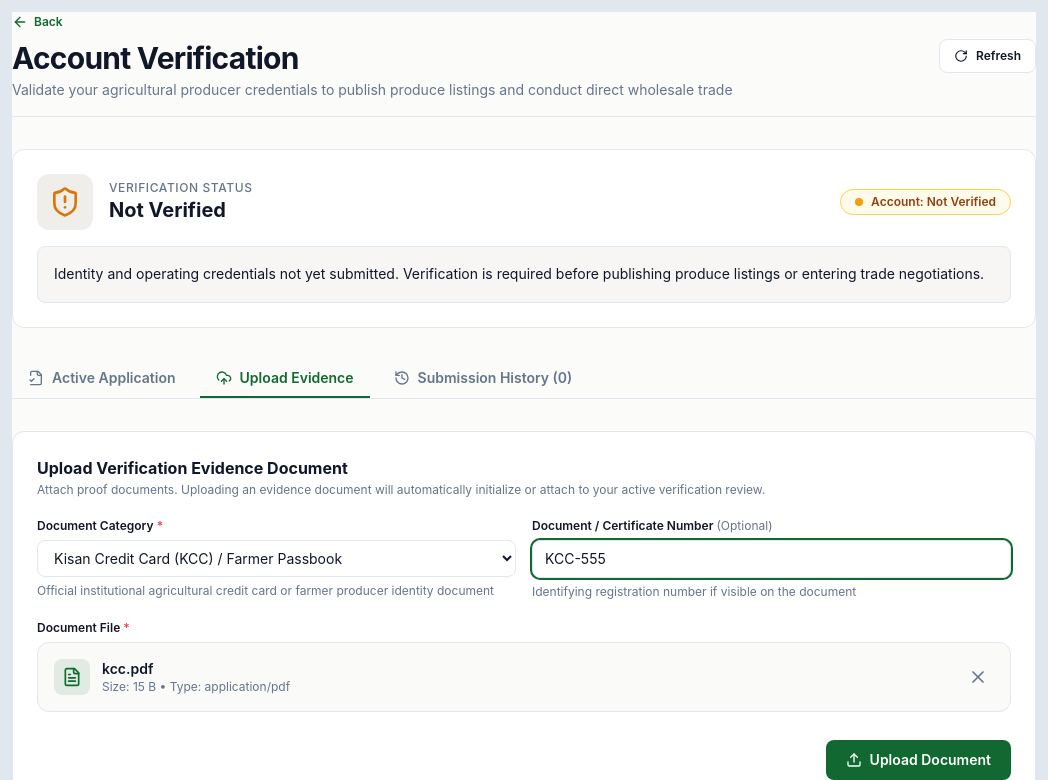
VerificationPage › successfully uploads a document and updates submission view
Earlier steps of the test are not shown.
Expected: the text "kcc.pdf" is shown, [102,660,153,677]
Click the button "Upload Document". click: (918, 760)
box: [826,740,1011,779]
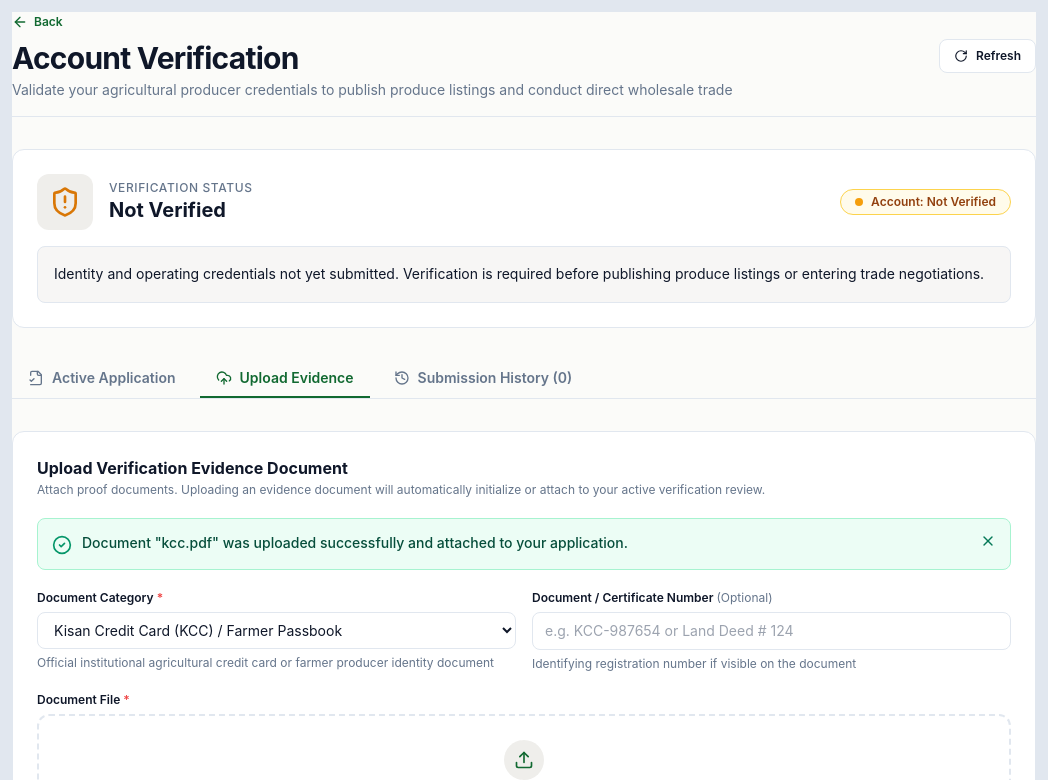
Result: the text "Document \"kcc.pdf\" was uploaded successfully" is shown at [82,534,628,551]
